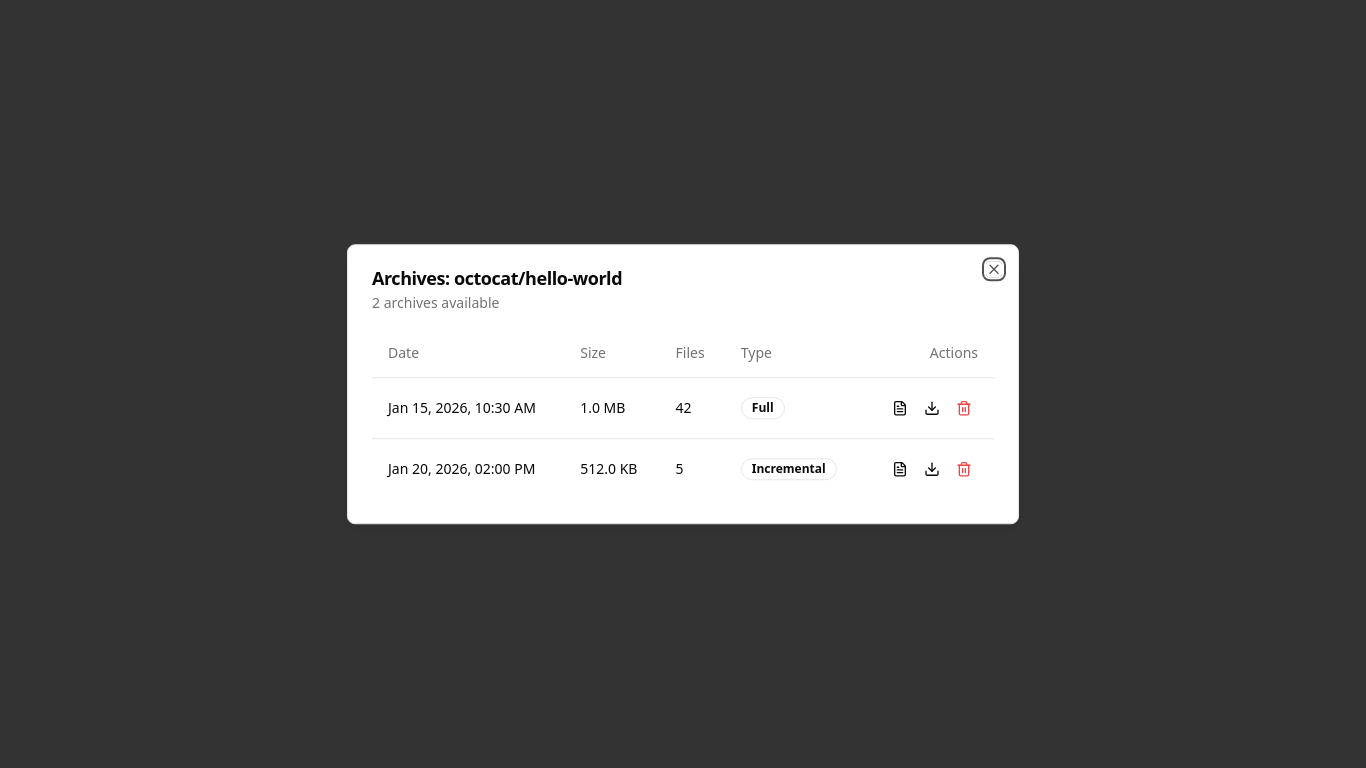
Test: ArchiveViewer › shows delete confirmation on delete button click
Expected: the text "1.0 MB" is shown, [564,377,660,438]
Click the button named "Delete archive" in the row of "Jan 15, 2026, 10:30 AM": (964, 408) [950,394,978,422]
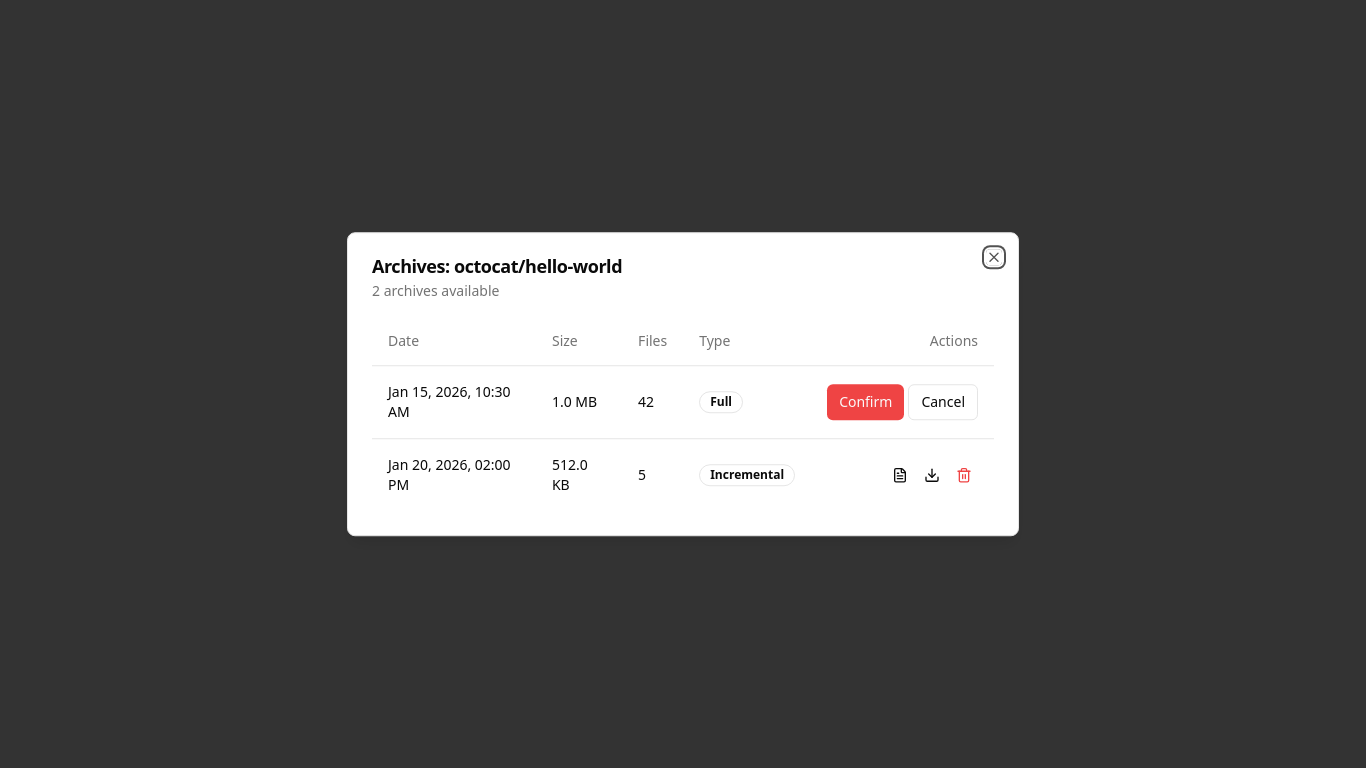
Expected: the button "Confirm" is shown, [827,384,904,420]
Expected: the button "Cancel" is shown, [908,384,978,420]
